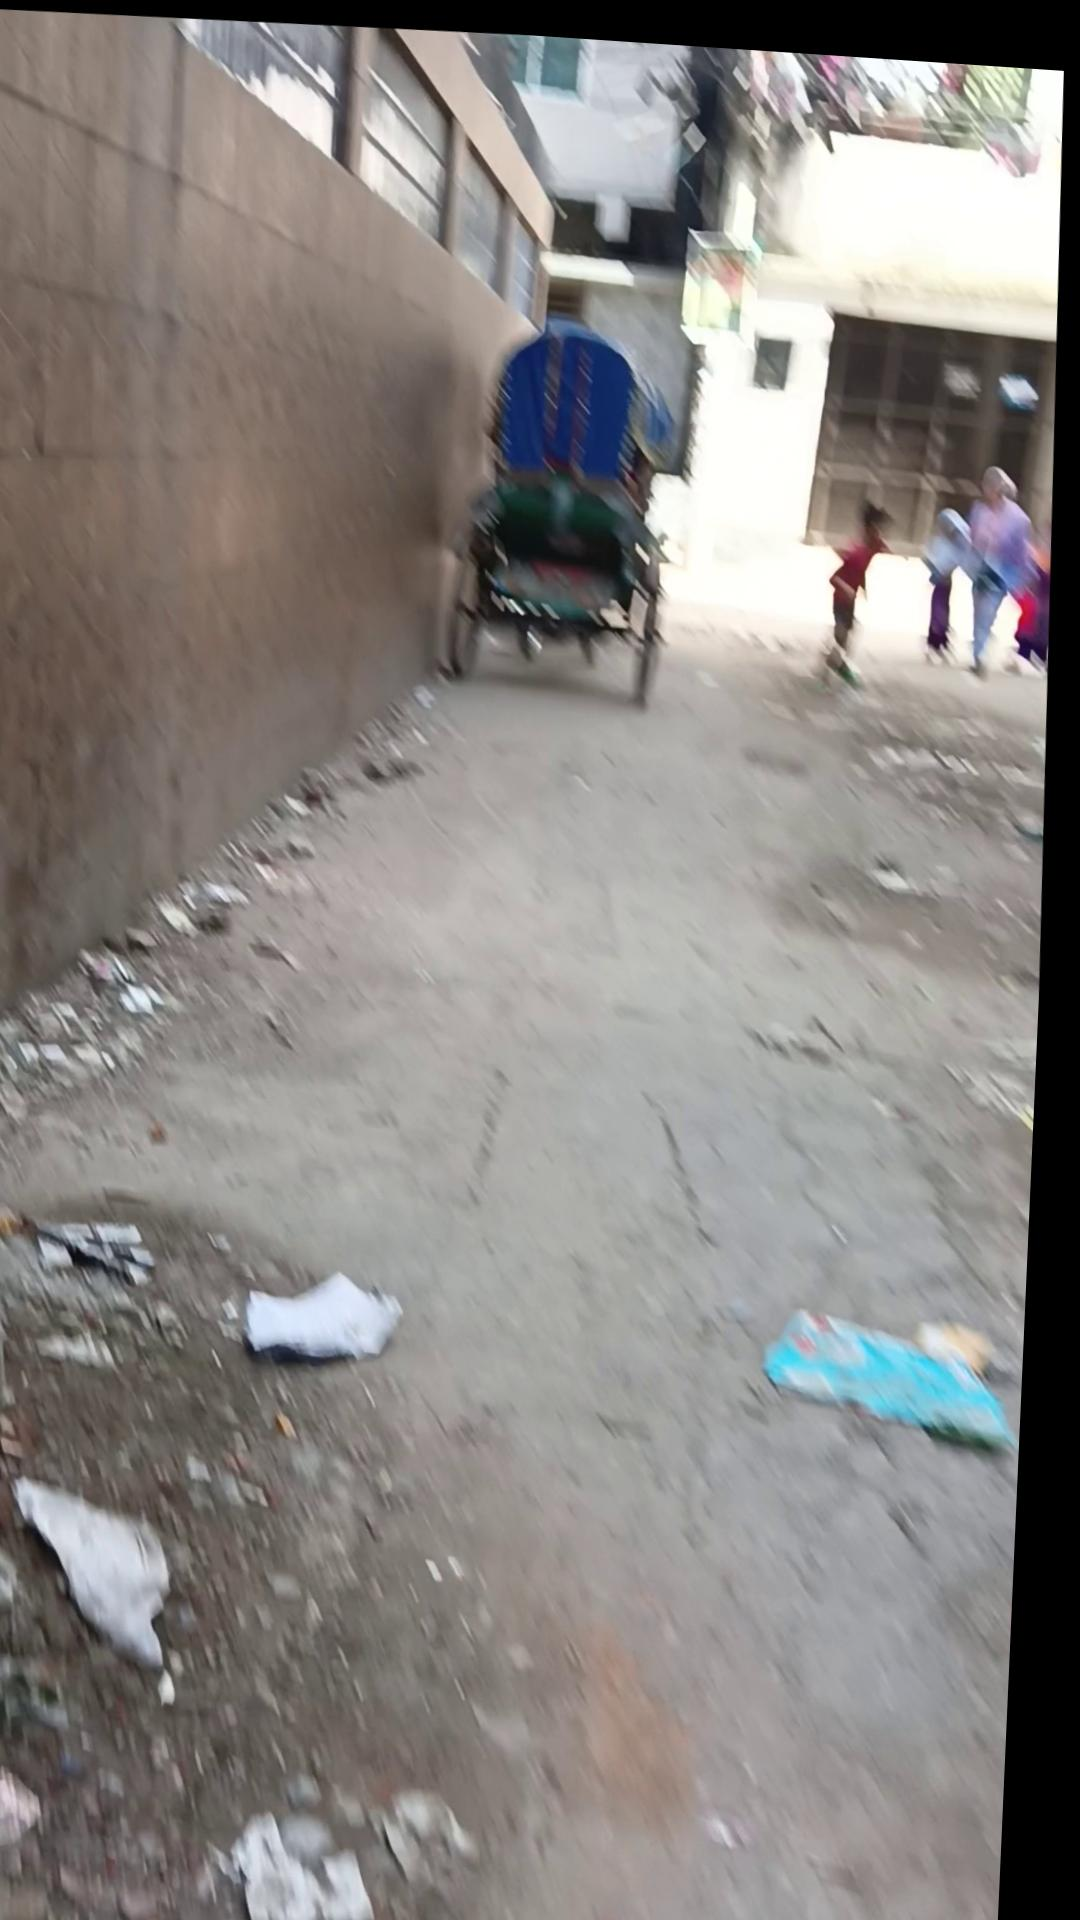Fence: (0, 1191, 517, 1920)
Muddy road: (961, 448, 1047, 667), (823, 485, 902, 667), (920, 488, 977, 642)
Pothole: (436, 301, 694, 707)
Potted-plant: (0, 539, 1062, 1920)
Tree: (0, 0, 502, 1046)
